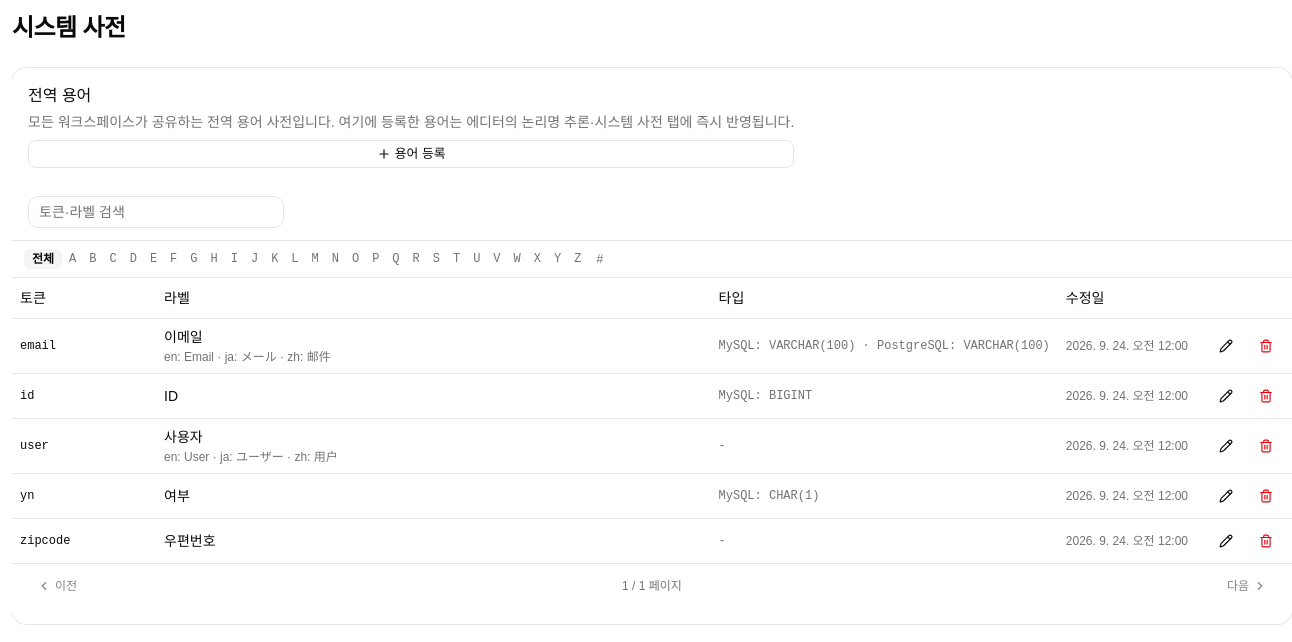
시스템 사전 관리 화면 › 검색 — 서버 keyword(디바운스)로 토큰·모든 언어 라벨이 좁혀진다(en 라벨로도 찾는다)
The image size is (1292, 642).
Expected: the row with test id "system-term-row-email" is shown, [12, 318, 1291, 373]
Type "Email" into the field labelled "토큰·라벨 검색" at (156, 212), box [28, 196, 284, 228]
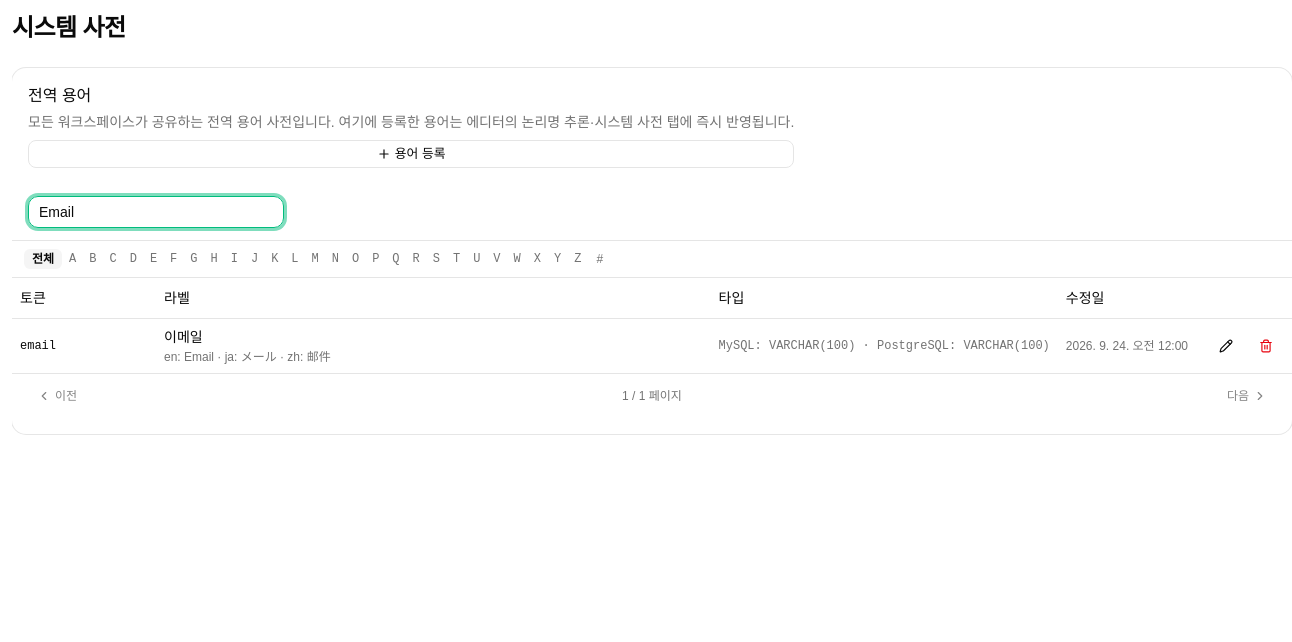
Expected: the row with test id "system-term-row-email" is shown, [12, 318, 1291, 372]
Expected: the row with test id "system-term-row-user" is gone
Replace the text in the field named "토큰·라벨 검색" with "user" at (156, 212), box [28, 196, 284, 228]
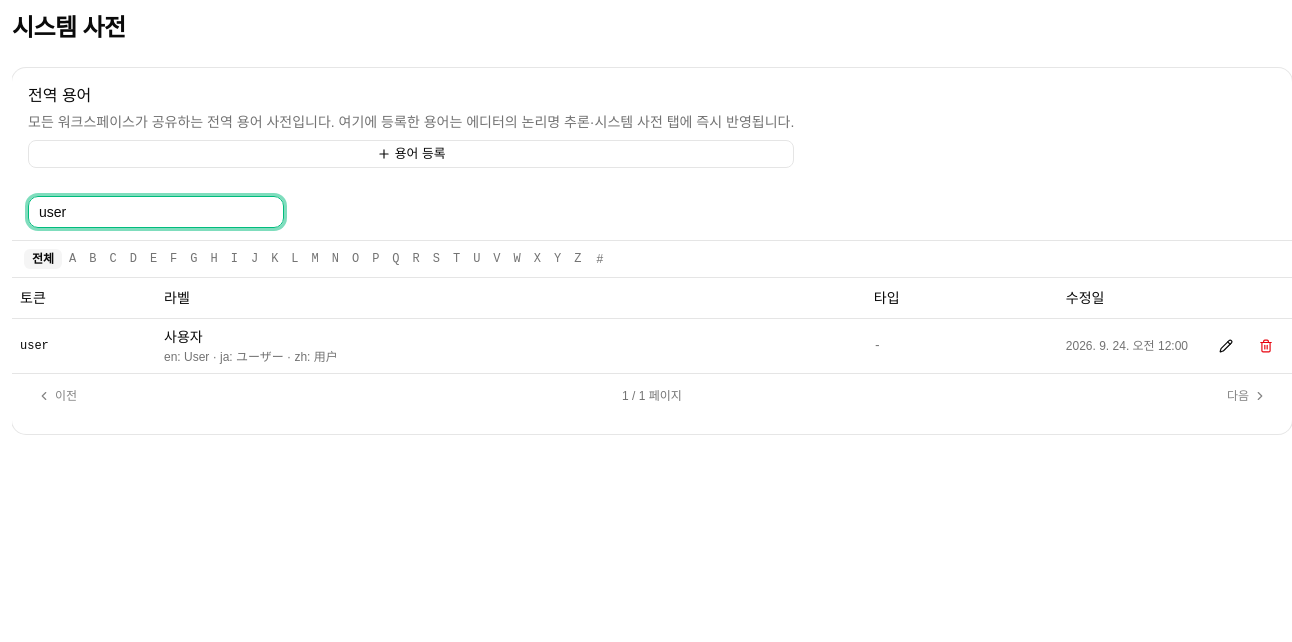
Expected: the row with test id "system-term-row-email" is gone
Expected: the row with test id "system-term-row-user" is shown, [12, 318, 1291, 372]
